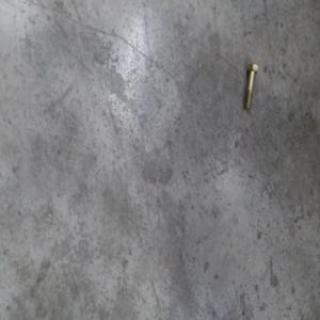Bolttrack_idkeyframe: (241, 59, 256, 108)
